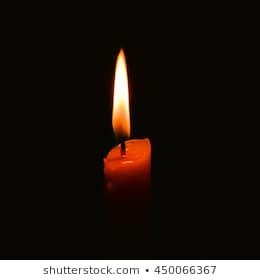fire: (111, 44, 131, 137)
